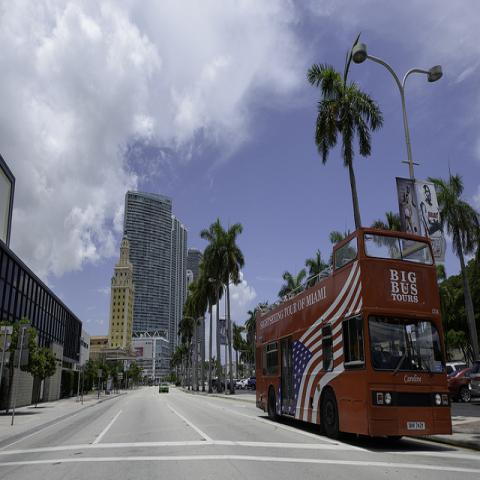bus: (256, 230, 454, 442)
car: (448, 367, 472, 402), (468, 360, 480, 396), (447, 361, 467, 372), (248, 376, 256, 391), (159, 382, 169, 394), (236, 379, 246, 390), (242, 380, 248, 390), (154, 383, 158, 386)
